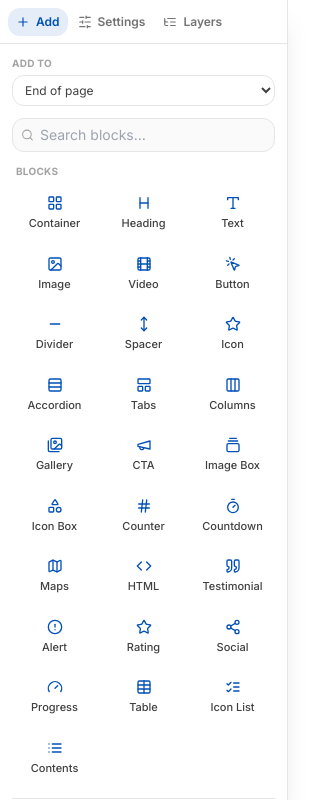
Test: the editor's tools are always on screen › lists the hero in the layer tree, above the blocks
Click the button "Layers".
click(193, 22)  # box 155,8 -> 230,36
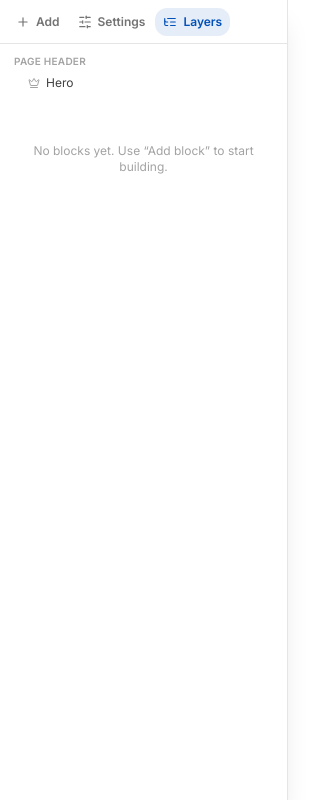
Expected: the button "Hero" is shown, 28,71 -> 249,95
